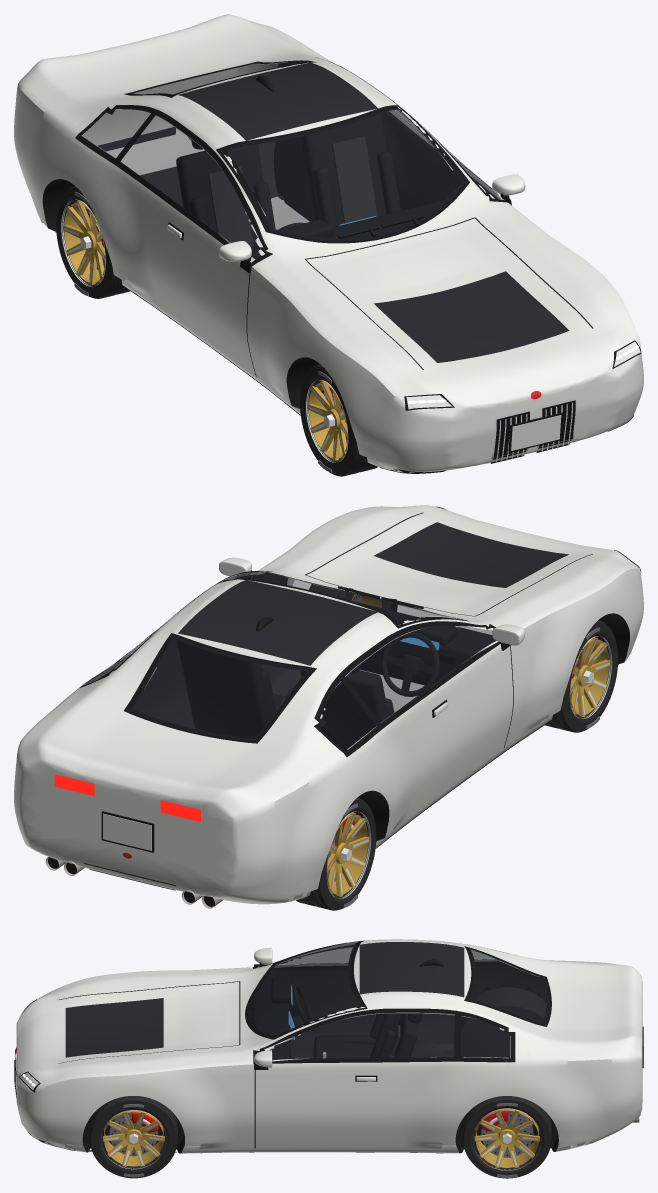
File: m4csl.glb
The picture shows the model from 3 angles, top to bottom: view 1: azimuth 30°, elevation 25°; view 2: azimuth 150°, elevation 25°; view 3: azimuth 270°, elevation 25°; orthographic projection. The views are drawn at different scales.
Parts seen in each view (by area): view 1: Body, Wheel_FR, Wheel_RR; view 2: Body, Wheel_RR, Wheel_FR, Wheel_FL; view 3: Body, Wheel_RL, Wheel_FL.
Part boxes in pixels (left/top/right/bottom): Body: left=14, top=14, right=643, bottom=473; Wheel_FR: left=300, top=364, right=377, bottom=476; Wheel_RR: left=56, top=186, right=130, bottom=298; Body: left=14, top=505, right=643, bottom=908; Wheel_RR: left=296, top=798, right=376, bottom=910; Wheel_FR: left=545, top=620, right=618, bottom=732; Wheel_FL: left=309, top=584, right=390, bottom=610; Body: left=14, top=939, right=643, bottom=1153; Wheel_RL: left=463, top=1096, right=551, bottom=1178; Wheel_FL: left=89, top=1096, right=177, bottom=1178.
Bounding box in the file's own units: 2.04 × 1.44 × 4.82.
